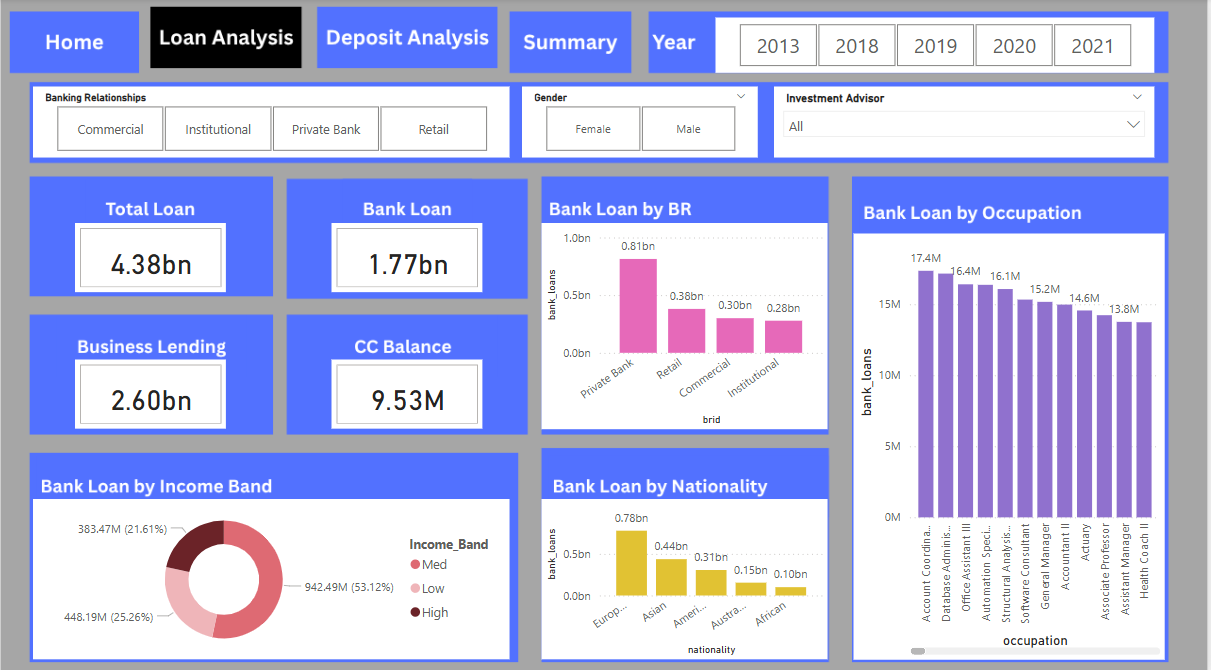

This screenshot's page, from the dashboard's own definition file:
{"tool":"powerbi","page":{"name":"Loan Analysis","canvas":[1280,720],"ordinal":1},"visuals":[{"type":"slicer","fields":{"Values":["public banking.Year_of_Joining"]},"box":[758.3,20,465,58.3],"z":0},{"type":"actionButton","box":[540,20,125,46.7],"z":1000},{"type":"actionButton","box":[340,11.7,181.7,55],"z":2000},{"type":"actionButton","box":[18.3,11.7,121.7,66.7],"z":3000},{"type":"cardVisual","fields":{"Data":["public banking.Total Loan"]},"box":[80,238.3,160,73.3],"z":4000},{"type":"cardVisual","fields":{"Data":["Sum(public banking.credit_card_balance)"]},"box":[351.7,383.3,160,73.3],"z":5000},{"type":"cardVisual","fields":{"Data":["Sum(public banking.bank_loans)"]},"box":[351.7,238.3,160,73.3],"z":6000},{"type":"cardVisual","fields":{"Data":["Sum(public banking.business_lending)"]},"box":[80,383.3,160,73.3],"z":7000},{"type":"donutChart","fields":{"Category":["public banking.Income_Band"],"Y":["Sum(public banking.bank_loans)"]},"box":[35,531.7,505,170],"z":8000},{"type":"clusteredColumnChart","fields":{"Category":["public banking.brid"],"Y":["Sum(public banking.bank_loans)"]},"box":[575,238.3,303.3,218.3],"z":9000},{"type":"clusteredColumnChart","fields":{"Category":["public banking.nationality"],"Y":["Sum(public banking.bank_loans)"]},"box":[575,531.7,303.3,170],"z":10000},{"type":"clusteredColumnChart","fields":{"Category":["public banking.occupation"],"Y":["Sum(public banking.bank_loans)"]},"box":[905,250,330,451.7],"z":11000},{"type":"slicer","fields":{"Values":["public banking.brid"]},"box":[35,93.3,505,75],"z":12000},{"type":"slicer","fields":{"Values":["public banking.genderid"]},"box":[553.3,93.3,250,75],"z":13000},{"type":"slicer","fields":{"Values":["public banking.iaid"]},"box":[820,93.3,403.3,75],"z":14000},{"type":"actionButton","box":[160,10,158.3,66.7],"z":15000}]}

Visuals, with their boxes in screenshot pixels (x1, y1, x2, y2), scaled from the page's 1280x720 canvas onto the 1211x670 screenshot:
slicer - public banking.Year_of_Joining: [left=717, top=19, right=1157, bottom=73]
actionButton: [left=511, top=19, right=629, bottom=62]
actionButton: [left=322, top=11, right=494, bottom=62]
actionButton: [left=17, top=11, right=132, bottom=73]
cardVisual - public banking.Total Loan: [left=76, top=222, right=227, bottom=290]
cardVisual - Sum(public banking.credit_card_balance): [left=333, top=357, right=484, bottom=425]
cardVisual - Sum(public banking.bank_loans): [left=333, top=222, right=484, bottom=290]
cardVisual - Sum(public banking.business_lending): [left=76, top=357, right=227, bottom=425]
donutChart - public banking.Income_Band x Sum(public banking.bank_loans): [left=33, top=495, right=511, bottom=653]
clusteredColumnChart - public banking.brid x Sum(public banking.bank_loans): [left=544, top=222, right=831, bottom=425]
clusteredColumnChart - public banking.nationality x Sum(public banking.bank_loans): [left=544, top=495, right=831, bottom=653]
clusteredColumnChart - public banking.occupation x Sum(public banking.bank_loans): [left=856, top=233, right=1168, bottom=653]
slicer - public banking.brid: [left=33, top=87, right=511, bottom=157]
slicer - public banking.genderid: [left=523, top=87, right=760, bottom=157]
slicer - public banking.iaid: [left=776, top=87, right=1157, bottom=157]
actionButton: [left=151, top=9, right=301, bottom=71]
